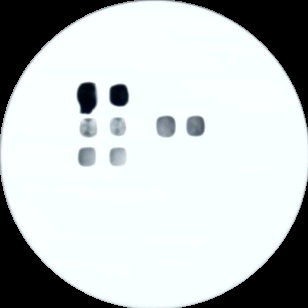检查点: (76, 79, 101, 116), (183, 113, 208, 138), (108, 82, 130, 109), (154, 115, 178, 139), (76, 145, 100, 167), (77, 118, 102, 139), (106, 146, 129, 168), (108, 116, 129, 138)
